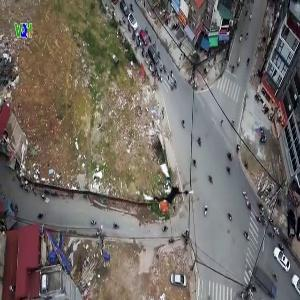drone: (142, 162, 197, 217)
